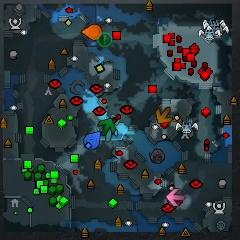Other: (97, 32, 112, 47)
p1: (84, 131, 101, 150)
p5: (82, 24, 102, 41)
x1: (166, 188, 185, 205)
x3: (100, 127, 118, 142)
x4: (98, 119, 115, 135)
x5: (155, 107, 173, 124)
